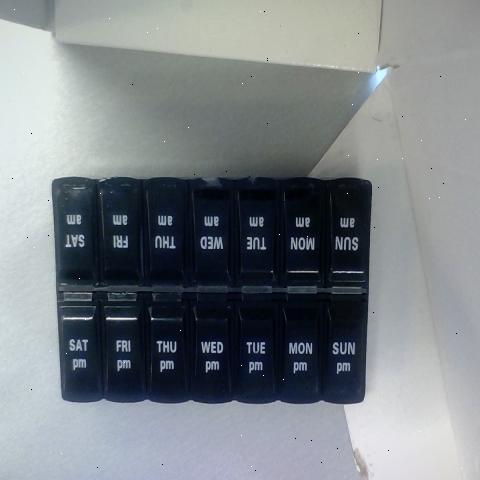FRI-am: (101, 179, 137, 274)
FRI-pm: (286, 174, 324, 282)
MON-am: (100, 298, 144, 401)
MON-pm: (282, 298, 320, 402)
SAT-am: (58, 181, 97, 278)
SAT-pm: (61, 294, 97, 398)
SUN-am: (332, 177, 366, 274)
SUN-pm: (326, 302, 364, 394)
THU-am: (142, 180, 183, 274)
THU-pm: (149, 295, 189, 403)
TUE-am: (243, 177, 283, 280)
TUE-pm: (236, 290, 279, 401)
WED-am: (192, 176, 233, 280)
WED-pm: (192, 292, 233, 398)
